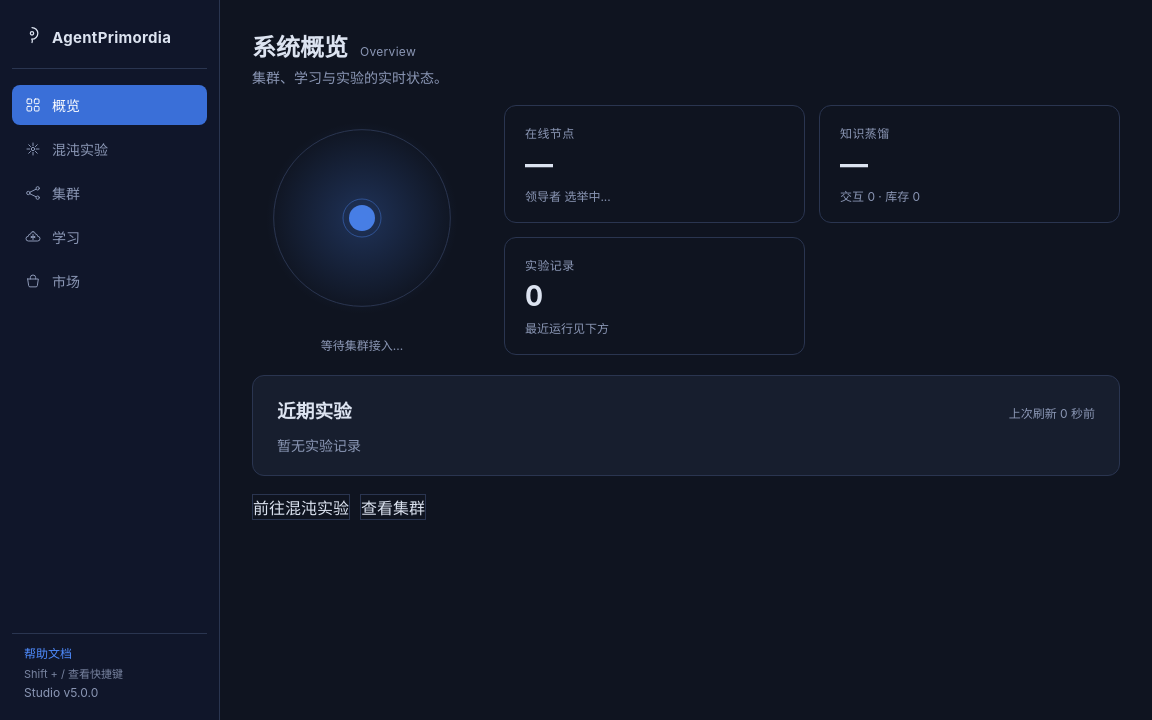
Test case: Studio App 壳层 › 点击集群导航切换到 Cluster Dashboard
Click the link "集群" at (52, 194), box left=25, top=185, right=80, bottom=202
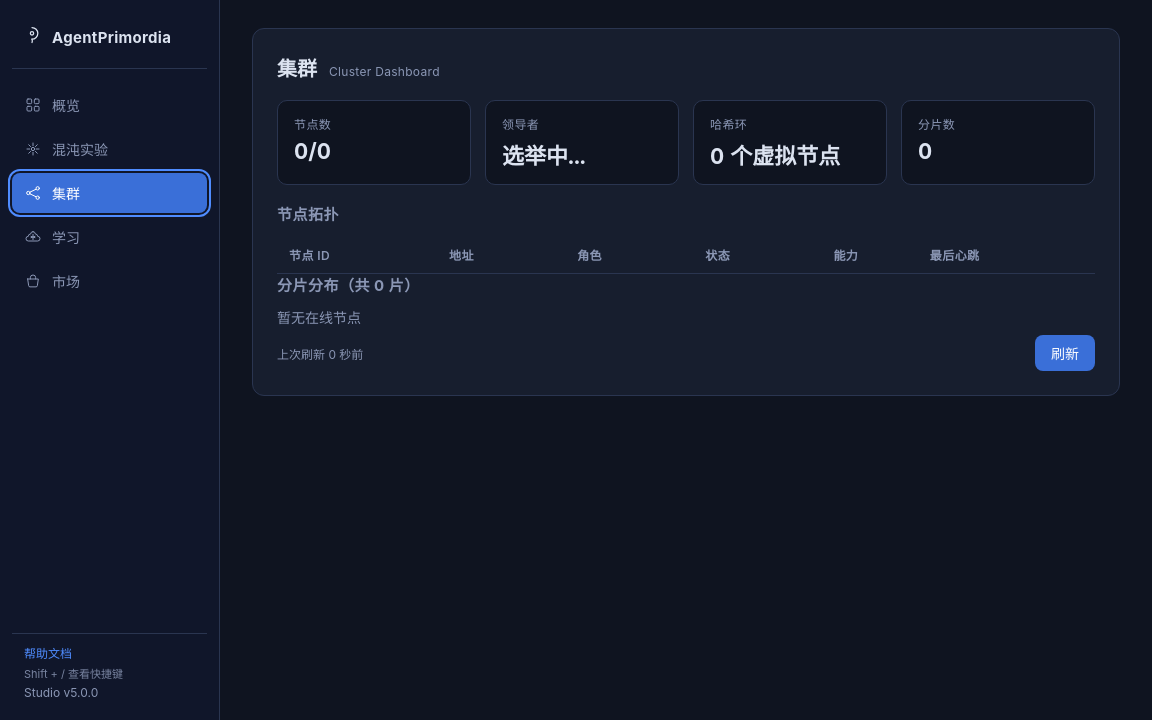
Result: the heading "集群" is shown at left=277, top=53, right=317, bottom=82
